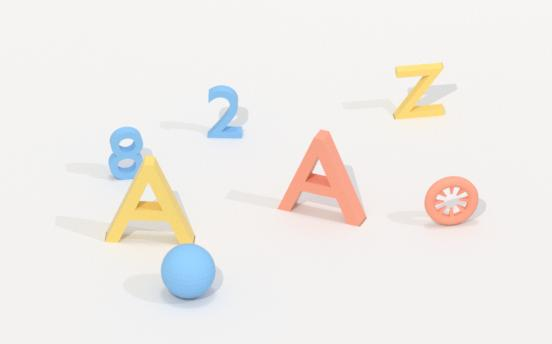2: (200, 83, 250, 144)
8: (106, 125, 150, 182)
A-hoa: (272, 132, 377, 229), (98, 158, 200, 253)
cau: (158, 241, 219, 300)
tron: (424, 174, 483, 227)
z: (389, 62, 448, 122)
